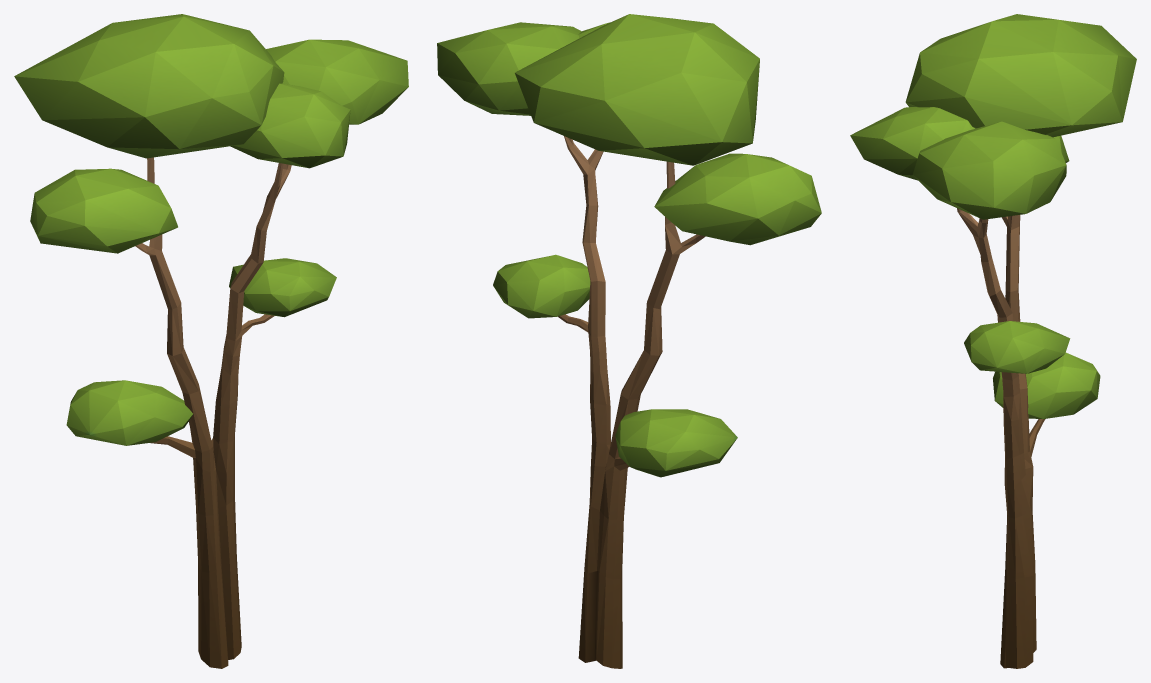
The model's file is ZLP_Plant_F_2.FBX.
3 views of the same model, side by side, from view 1: azimuth 30°, elevation 25°; view 2: azimuth 150°, elevation 25°; view 3: azimuth 270°, elevation 25° (orthographic). The views are drawn at different scales.
Parts seen in each view (by area): view 1: ZLP_Plant_F_2; view 2: ZLP_Plant_F_2; view 3: ZLP_Plant_F_2.
Part boxes in pixels (left/top/right/bottom): ZLP_Plant_F_2: left=14, top=14, right=408, bottom=668; ZLP_Plant_F_2: left=437, top=14, right=821, bottom=668; ZLP_Plant_F_2: left=850, top=14, right=1136, bottom=668.
Bounding box in the file's own units: 263 × 427 × 182.
